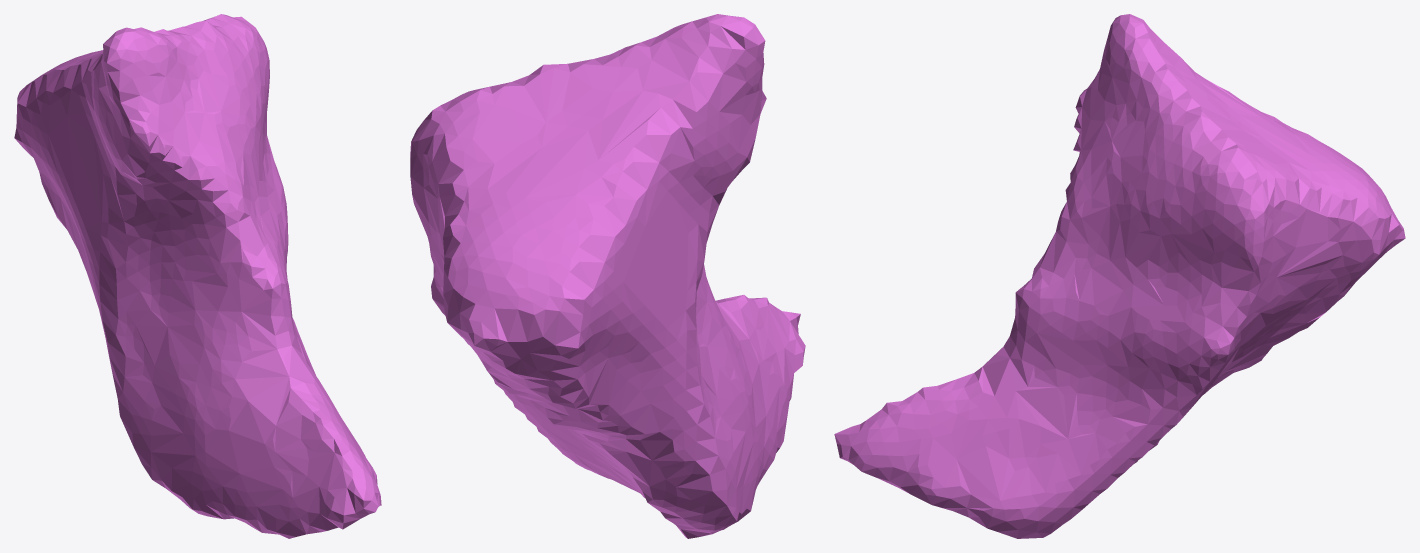
File: Model_10086_LH__Auditory_cortex__rostrotemporal_medial_area_(AuRTM).obj
The picture shows the model from 3 angles, left to right: view 1: azimuth 30°, elevation 25°; view 2: azimuth 150°, elevation 25°; view 3: azimuth 270°, elevation 25°; orthographic projection. The views are drawn at different scales.
Bounding box in the file's own units: 1.44 × 2.85 × 3.18.
